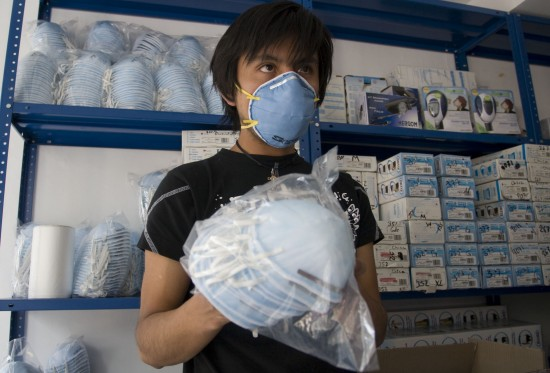face_mask: (246, 50, 319, 151)
